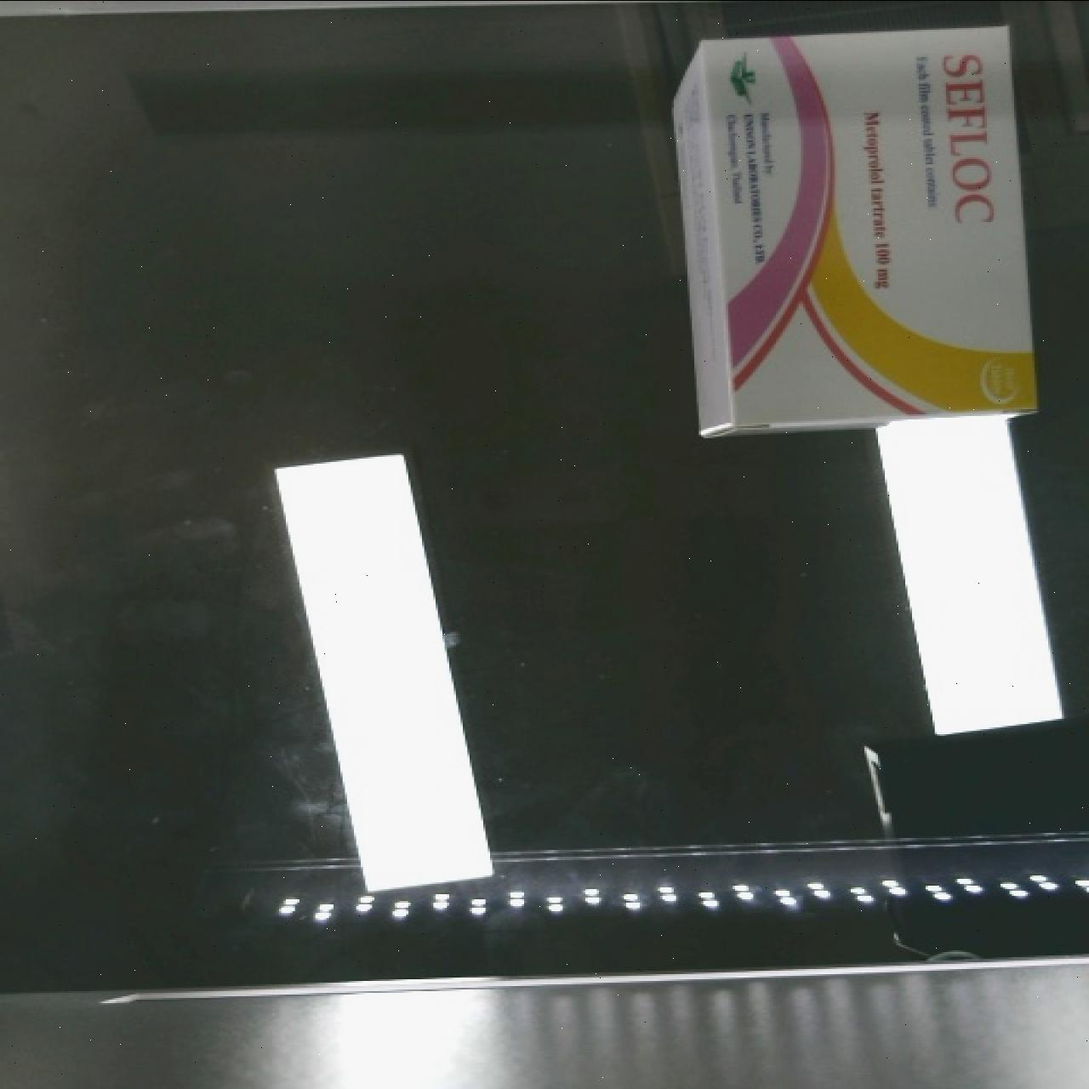medicine_label_obb: (923, 29, 1015, 244)
